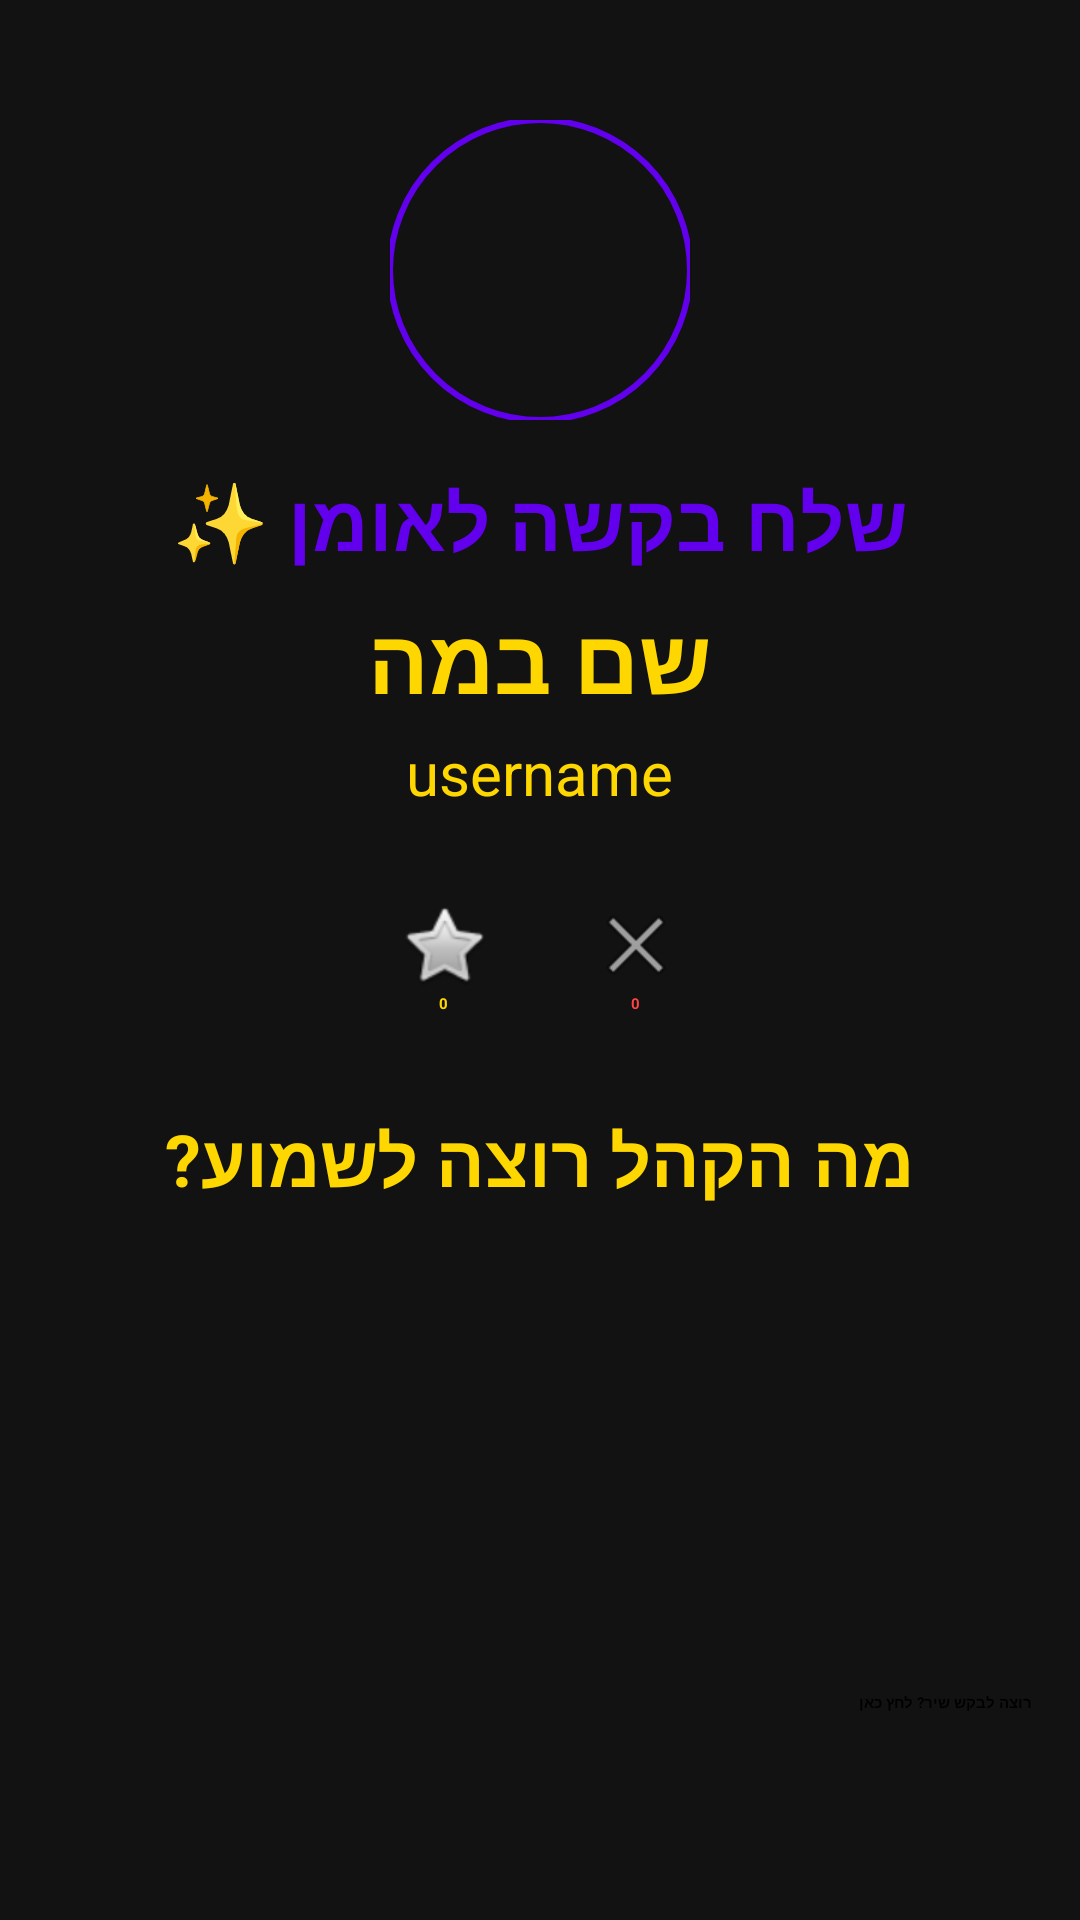

Icon bounding boxes for this 1080 x 1920 phone screenshot, format {"left": x1, "top": y1, "right": x2, "bottom": y2}:
close clear cancel: {"left": 609, "top": 918, "right": 663, "bottom": 972}
star off: {"left": 406, "top": 908, "right": 483, "bottom": 981}
